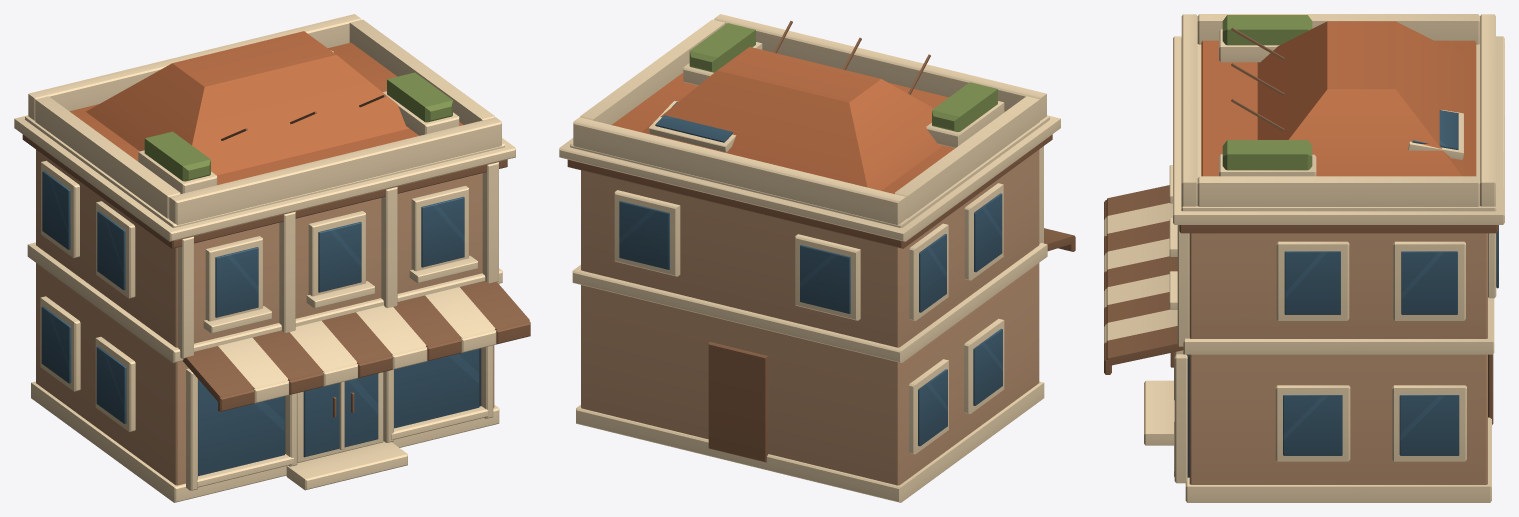
File: 01D-market-threejs.glb
The picture shows the model from 3 angles, left to right: view 1: azimuth 30°, elevation 25°; view 2: azimuth 150°, elevation 25°; view 3: azimuth 270°, elevation 25°; orthographic projection. The views are drawn at different scales.
Visible parts, largest first — view 1: 01D / trim, 01D / wall, 01D / glass, 01D / roof, 01D / accent, 01D / green; view 2: 01D / wall, 01D / trim, 01D / roof, 01D / glass, 01D / accent, 01D / green; view 3: 01D / trim, 01D / wall, 01D / roof, 01D / glass, 01D / accent, 01D / green.
Boxes of the visible parts, x1=… form: 01D / trim: x1=14, y1=14, x2=515, y2=502; 01D / wall: x1=36, y1=149, x2=494, y2=485; 01D / glass: x1=41, y1=171, x2=479, y2=476; 01D / roof: x1=70, y1=31, x2=463, y2=184; 01D / accent: x1=22, y1=94, x2=530, y2=417; 01D / green: x1=144, y1=72, x2=452, y2=181; 01D / wall: x1=581, y1=149, x2=1039, y2=485; 01D / trim: x1=559, y1=14, x2=1060, y2=502; 01D / roof: x1=612, y1=47, x2=1005, y2=193; 01D / glass: x1=619, y1=102, x2=1002, y2=446; 01D / accent: x1=567, y1=20, x2=1075, y2=462; 01D / green: x1=689, y1=23, x2=997, y2=131; 01D / trim: x1=1104, y1=14, x2=1504, y2=502; 01D / wall: x1=1189, y1=233, x2=1487, y2=484; 01D / roof: x1=1201, y1=21, x2=1476, y2=176; 01D / glass: x1=1183, y1=110, x2=1498, y2=455; 01D / accent: x1=1104, y1=27, x2=1498, y2=424; 01D / green: x1=1222, y1=15, x2=1312, y2=170.
Bounding box in the file's own units: 6.52 × 6.19 × 6.18.
7 materials, 7 textured.
